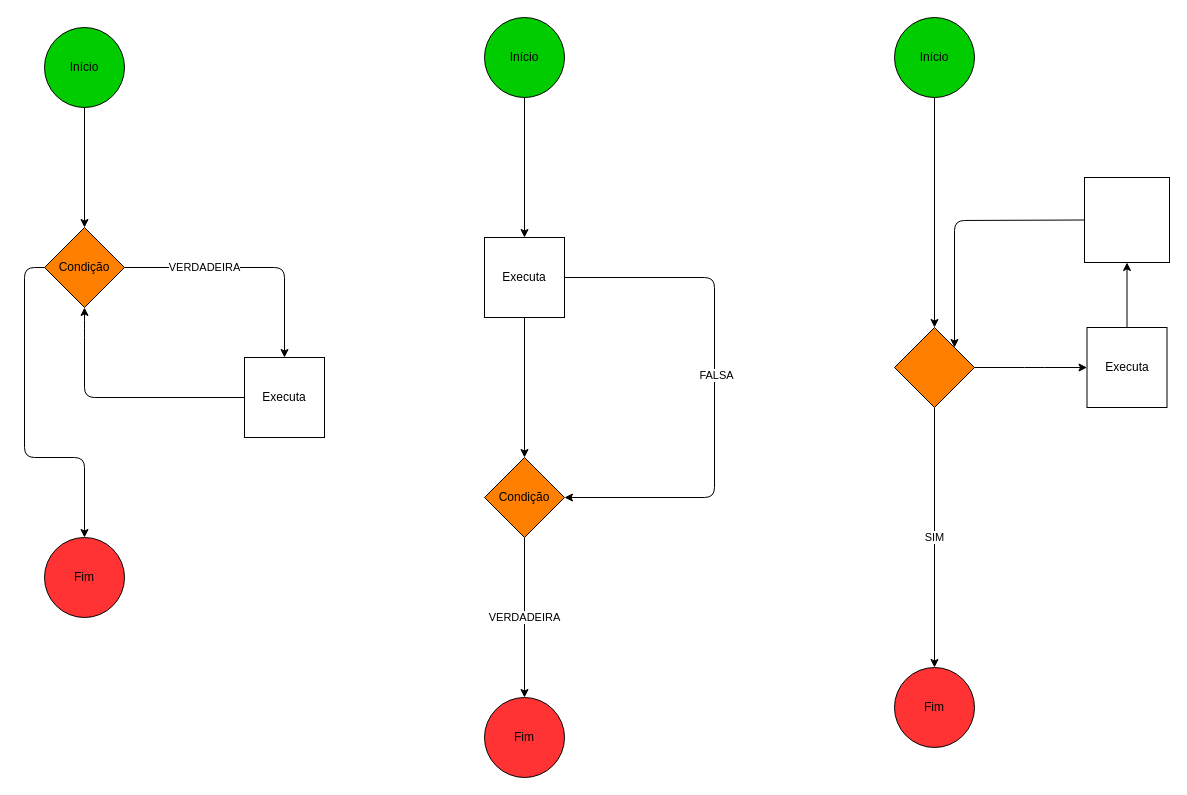
Some shapes in this 1187 by 795 pixel diagram are drawn without their labels. The box of each missing label's shape, as (x1, y1, x2, y2) in pixels:
Incrementa a Contagem: (1084, 176, 1170, 262)
Ultima?: (894, 326, 974, 408)
